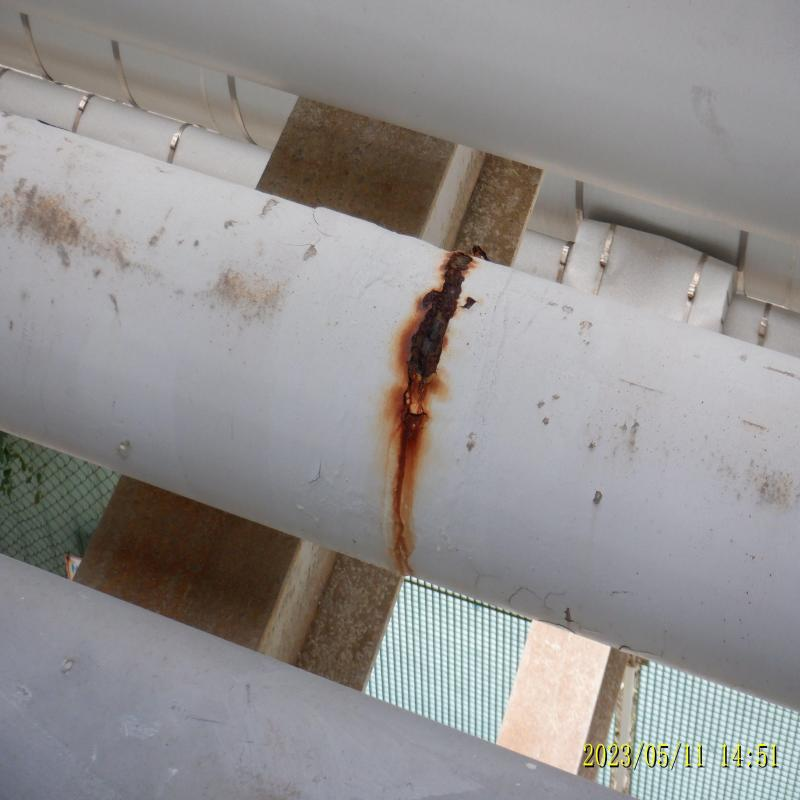corrosion: (408, 278, 434, 437)
